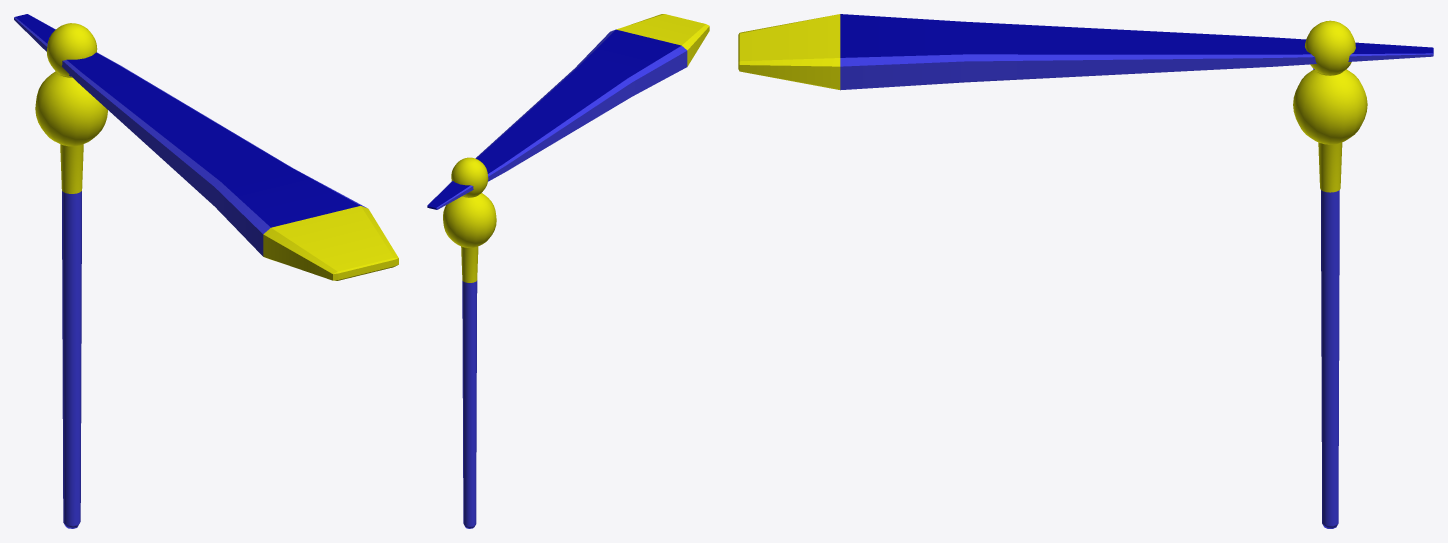
Rendered from OBSTACLE 02.fbx.
3 views of the same model, side by side, from view 1: azimuth 30°, elevation 25°; view 2: azimuth 150°, elevation 25°; view 3: azimuth 270°, elevation 25° (orthographic). The views are drawn at different scales.
Visible parts, largest first — view 1: pCube1, STAND; view 2: pCube1, STAND; view 3: pCube1, STAND.
Boxes of the visible parts, x1,y1,x2,y2 form: pCube1: (14,14,398,280); STAND: (35,23,107,528); pCube1: (427,14,709,209); STAND: (443,157,496,528); pCube1: (738,14,1433,90); STAND: (1293,20,1367,528).
Bounding box in the file's own units: 47.71 × 217 × 272.
